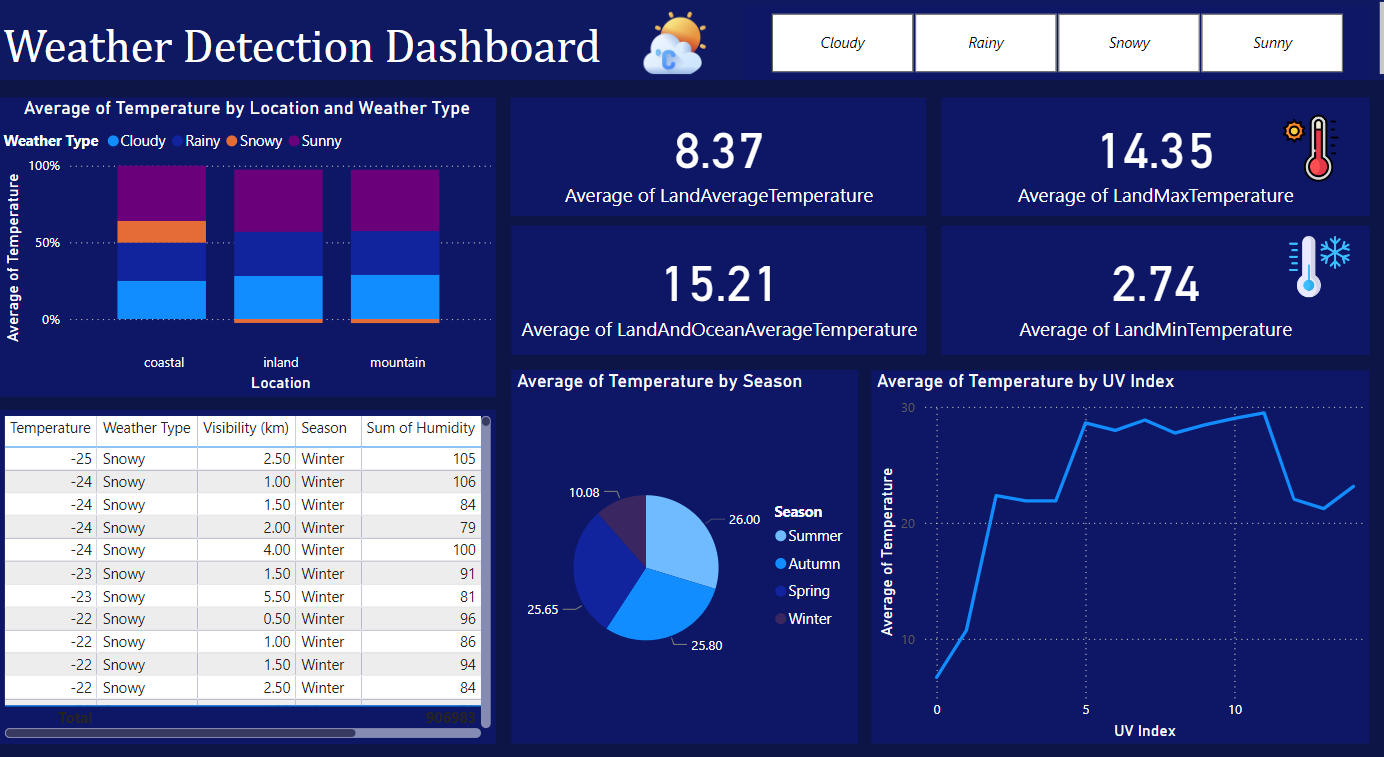

What the dashboard file says about the page in this screenshot:
{"tool":"powerbi","page":{"name":"Overview","canvas":[1280,720],"ordinal":0},"visuals":[{"type":"textbox","box":[0,0,1279.6,77.2],"z":0},{"type":"slicer","fields":{"Values":["weather_classification_data.Weather Type"]},"box":[683.4,9.1,574.1,67.8],"z":1000},{"type":"hundredPercentStackedColumnChart","fields":{"Series":["weather_classification_data.Weather Type"],"Y":["Avg(weather_classification_data.Temperature)"],"Category":["weather_classification_data.Location"]},"box":[0,93.1,456.6,274.4],"z":2000},{"type":"card","fields":{"Values":["Avg(GlobalTemperatures.LandAverageTemperature)"]},"box":[469.8,93.1,381.7,108.3],"z":3000},{"type":"card","fields":{"Values":["Avg(GlobalTemperatures.LandMaxTemperature)"]},"box":[864.7,93.1,392.8,108.3],"z":4000},{"type":"card","fields":{"Values":["Avg(GlobalTemperatures.LandAndOceanAverageTemperature)"]},"box":[470.8,210.6,380.7,118.5],"z":5000},{"type":"card","fields":{"Values":["Avg(GlobalTemperatures.LandMinTemperature)"]},"box":[864.7,210.6,392.8,118.5],"z":6000},{"type":"tableEx","fields":{"Values":["weather_classification_data.Temperature","weather_classification_data.Weather Type","weather_classification_data.Visibility (km)","weather_classification_data.Season","Sum(weather_classification_data.Humidity)","weather_classification_data.Cloud Cover","weather_classification_data.Location"]},"box":[0,379.7,456.6,305.8],"z":7000},{"type":"pieChart","fields":{"Category":["weather_classification_data.Season"],"Y":["Avg(weather_classification_data.Temperature)"]},"box":[470.8,343.2,317.9,342.2],"z":8000},{"type":"lineChart","fields":{"Y":["Avg(weather_classification_data.Temperature)"],"Category":["weather_classification_data.UV Index"]},"box":[800.9,343.2,456.6,342.2],"z":8001},{"type":"image","box":[1167.4,103.3,71.9,71.9],"z":8002},{"type":"image","box":[580.2,9.1,81,67.8],"z":8003},{"type":"image","box":[1174.5,210.6,75.9,74.9],"z":8004}]}

Visuals, with their boxes in screenshot pixels (x1, y1, x2, y2), scaled from the page's 1280x720 canvas onto the 1384x757 screenshot:
textbox: select_region(0, 0, 1383, 81)
slicer - weather_classification_data.Weather Type: select_region(739, 10, 1360, 81)
hundredPercentStackedColumnChart - weather_classification_data.Weather Type x Avg(weather_classification_data.Temperature): select_region(0, 98, 494, 386)
card - Avg(GlobalTemperatures.LandAverageTemperature): select_region(508, 98, 921, 212)
card - Avg(GlobalTemperatures.LandMaxTemperature): select_region(935, 98, 1360, 212)
card - Avg(GlobalTemperatures.LandAndOceanAverageTemperature): select_region(509, 221, 921, 346)
card - Avg(GlobalTemperatures.LandMinTemperature): select_region(935, 221, 1360, 346)
tableEx - weather_classification_data.Temperature x weather_classification_data.Weather Type: select_region(0, 399, 494, 721)
pieChart - weather_classification_data.Season x Avg(weather_classification_data.Temperature): select_region(509, 361, 853, 721)
lineChart - Avg(weather_classification_data.Temperature) x weather_classification_data.UV Index: select_region(866, 361, 1360, 721)
image: select_region(1262, 109, 1340, 184)
image: select_region(627, 10, 715, 81)
image: select_region(1270, 221, 1352, 300)
